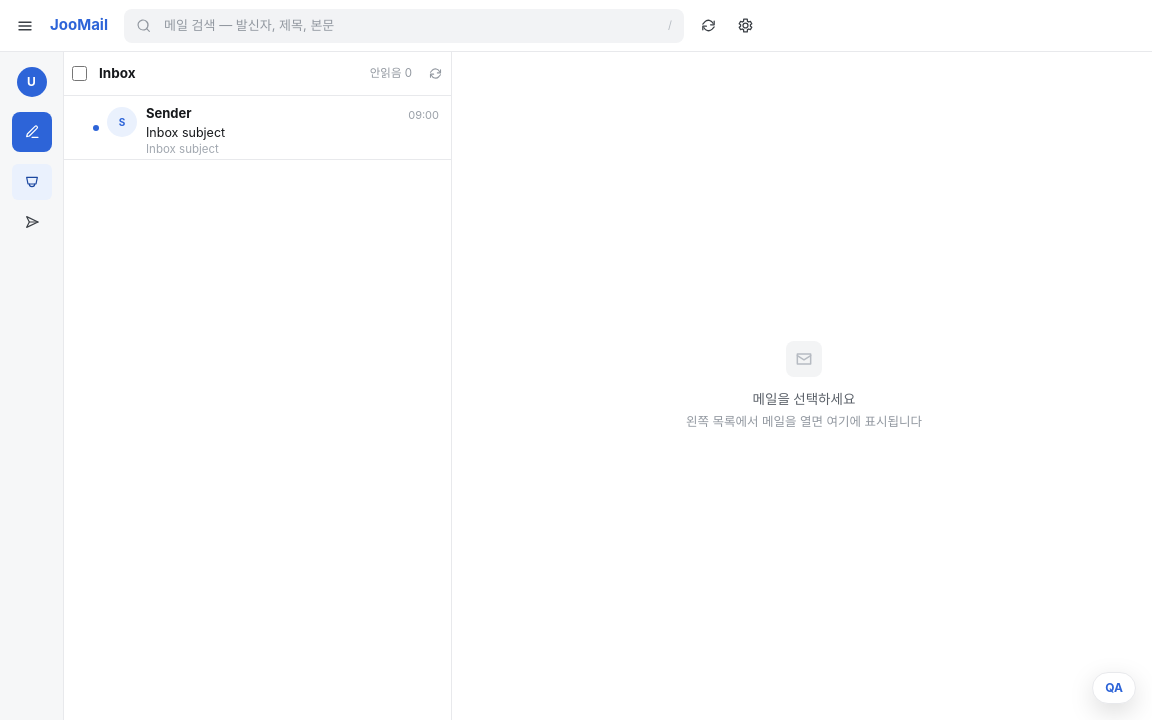
it: AppShell live mail behavior › reconciles an unread summary when detail is already read without patching seen
This screenshot has width=1152, height=720.
Click the button "S Sender 09:00 Inbox subject Inbox subject": {"x": 169, "y": 113} x1=64 y1=96 x2=451 y2=160
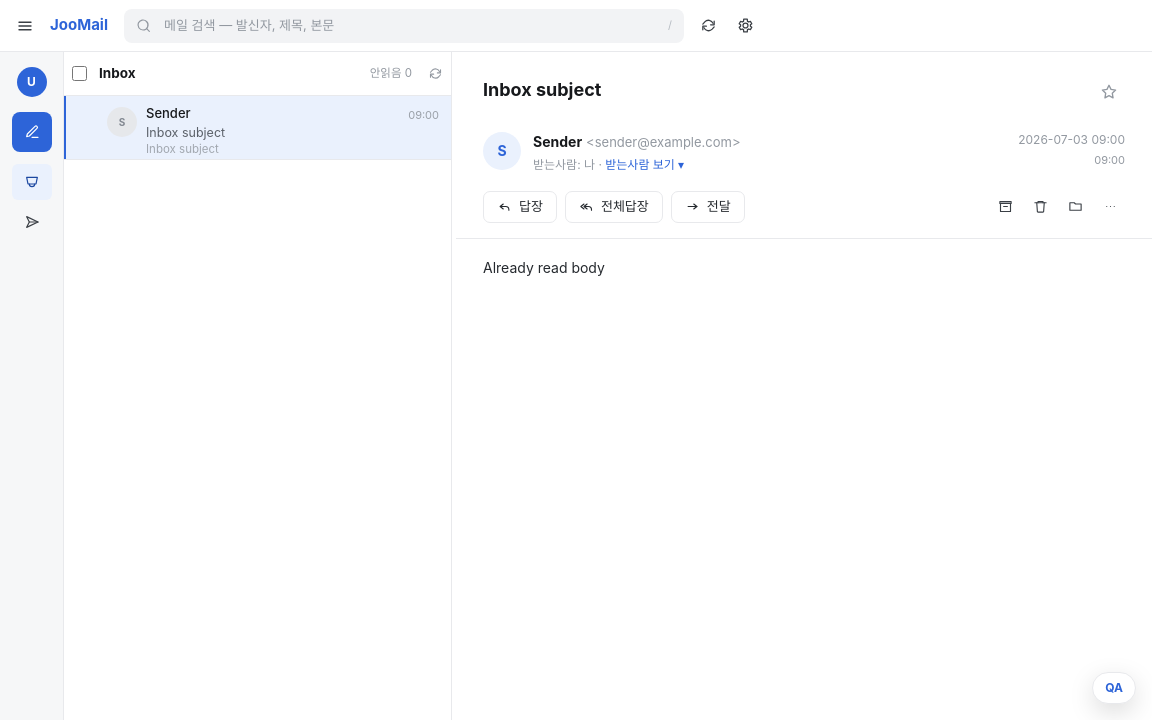
Check: the text "Already read body" is shown, box x1=483 y1=258 x2=605 y2=276
